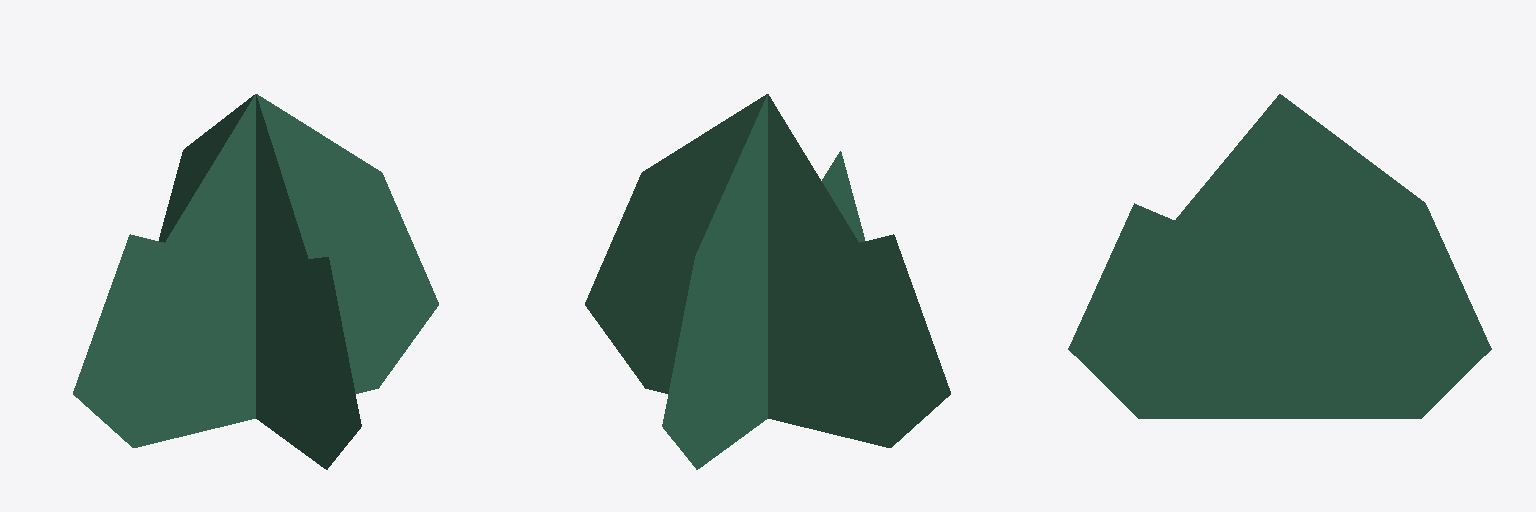
3 views of the same model, side by side, from view 1: azimuth 30°, elevation 25°; view 2: azimuth 150°, elevation 25°; view 3: azimuth 270°, elevation 25° (orthographic).
Visible parts, largest first — view 1: Mesh1 Plant_2 Model; view 2: Mesh1 Plant_2 Model; view 3: Mesh1 Plant_2 Model.
Part boxes in pixels (bbox=[...]): Mesh1 Plant_2 Model: bbox=[73, 94, 438, 469]; Mesh1 Plant_2 Model: bbox=[585, 94, 950, 469]; Mesh1 Plant_2 Model: bbox=[1068, 94, 1491, 418].
Bounding box in the file's own units: 0.7503 × 0.6353 × 0.7503.
Materials: 1 (1 with a texture image).